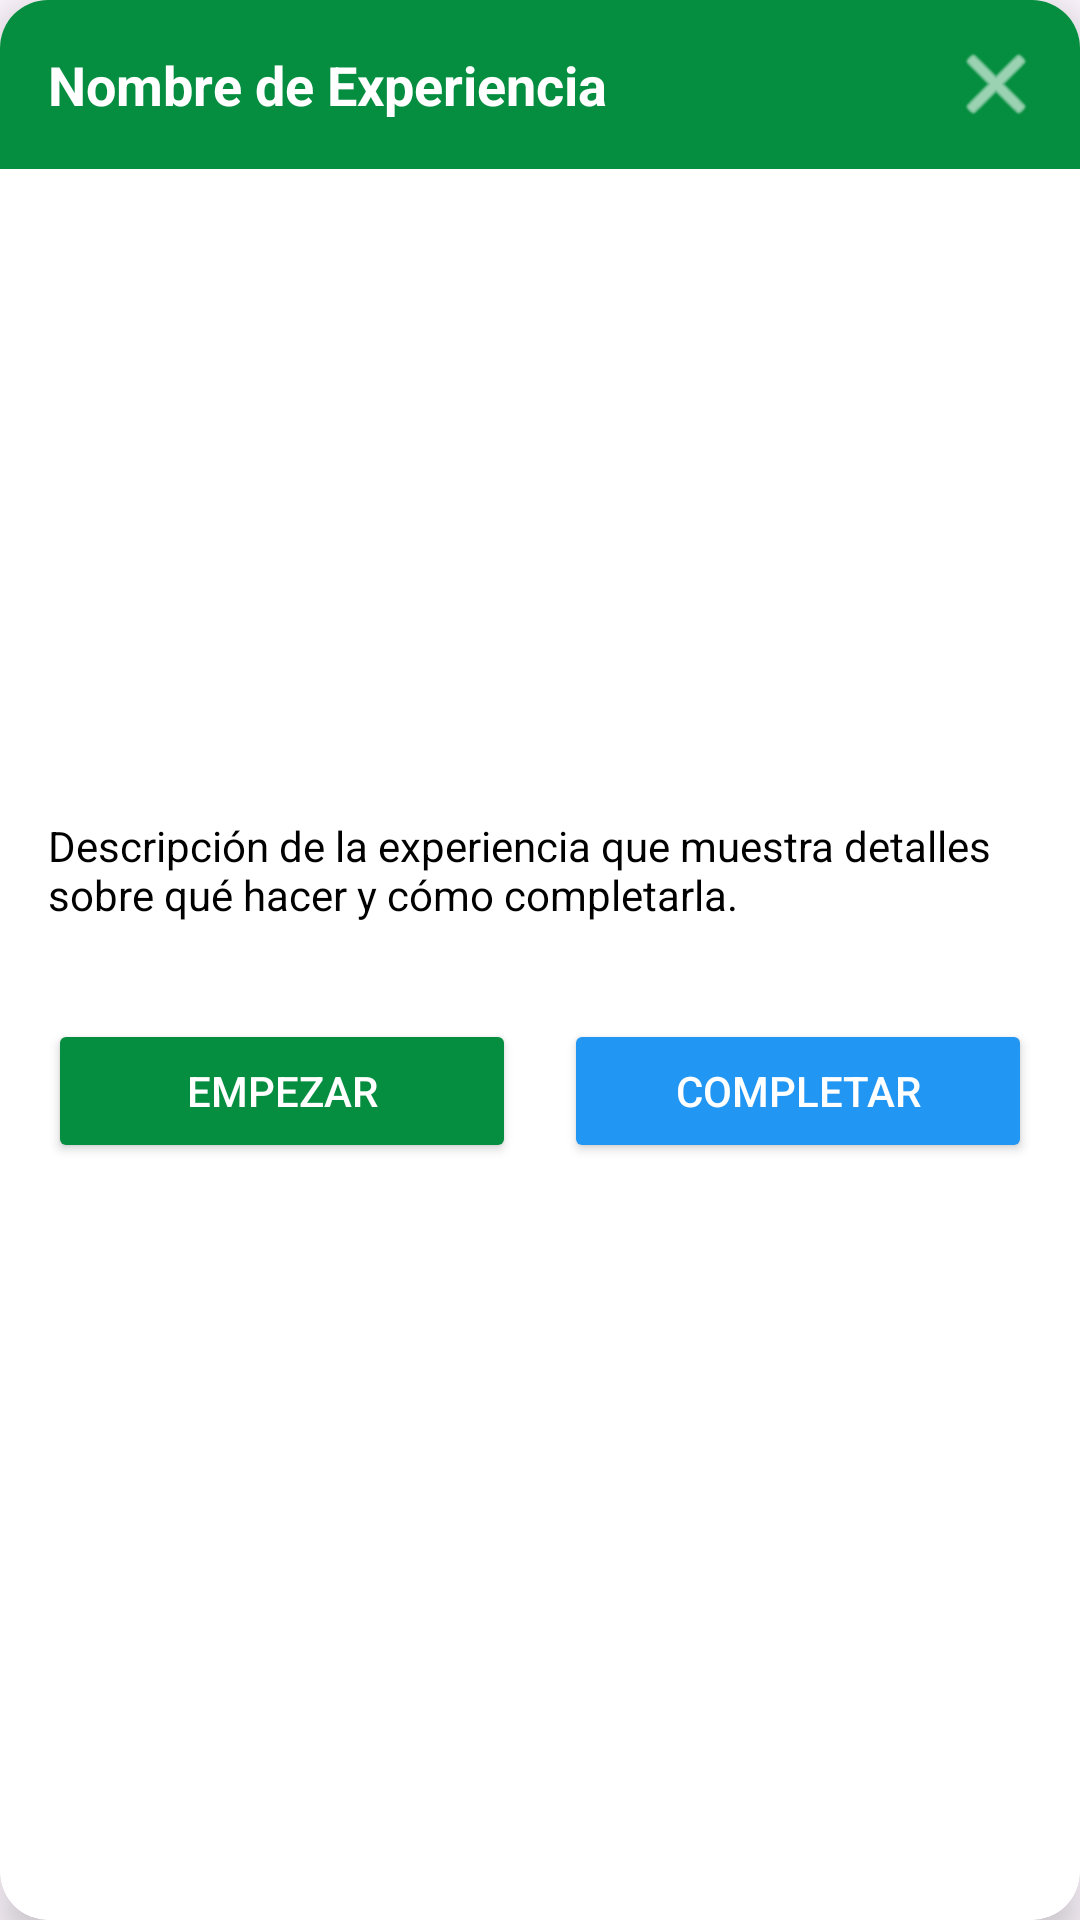

Where icons sit on this 1080*1920 app screen, as (x1=x1, y1=y1, x2=x2, y2=y2):
close clear cancel: (x1=966, y1=54, x2=1026, y2=114)
